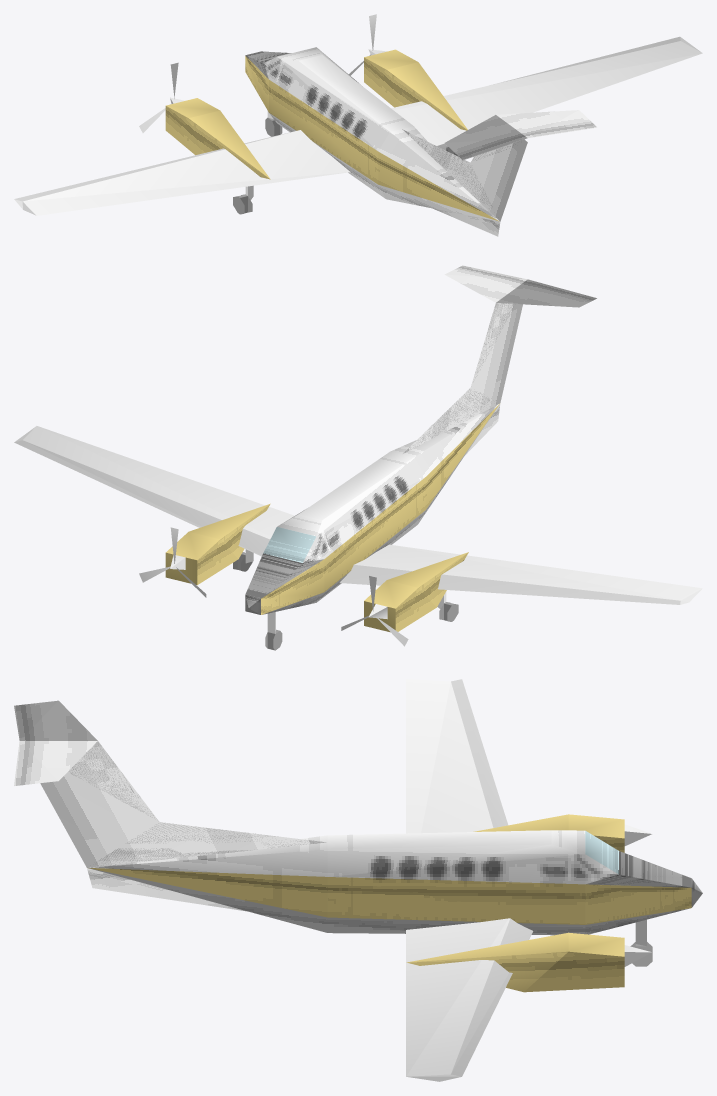
The model's file is uvmd-0034.glb.
The picture shows the model from 3 angles, top to bottom: view 1: azimuth 30°, elevation 25°; view 2: azimuth 150°, elevation 25°; view 3: azimuth 270°, elevation 25°; orthographic projection. The views are drawn at different scales.
Parts seen in each view (by area): view 1: uvmd-0034; view 2: uvmd-0034; view 3: uvmd-0034.
Boxes of the visible parts, x1,y1,x2,y2 form: uvmd-0034: (14,14,702,236); uvmd-0034: (14,265,702,650); uvmd-0034: (14,679,702,1081).
Size of the model in its own units: 168 by 44 by 123.
Materials: 2 (2 with a texture image).
